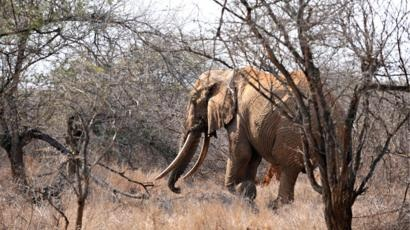elephant: (155, 66, 350, 212)
